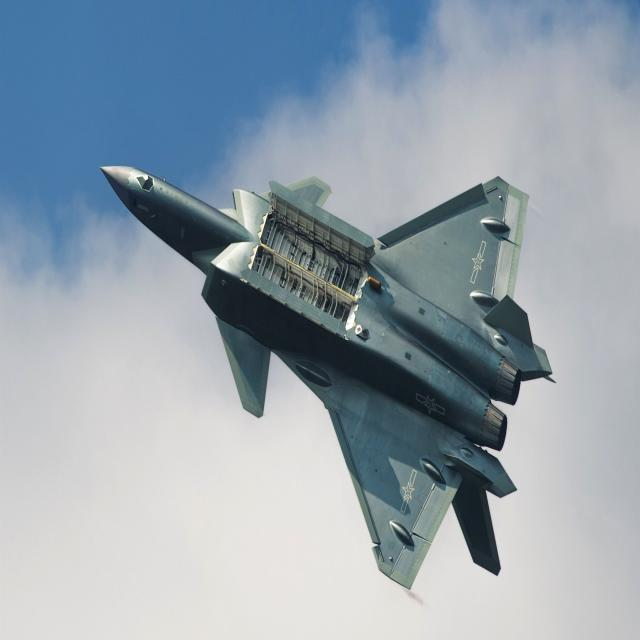MIL_Plane: (99, 165, 556, 591)
